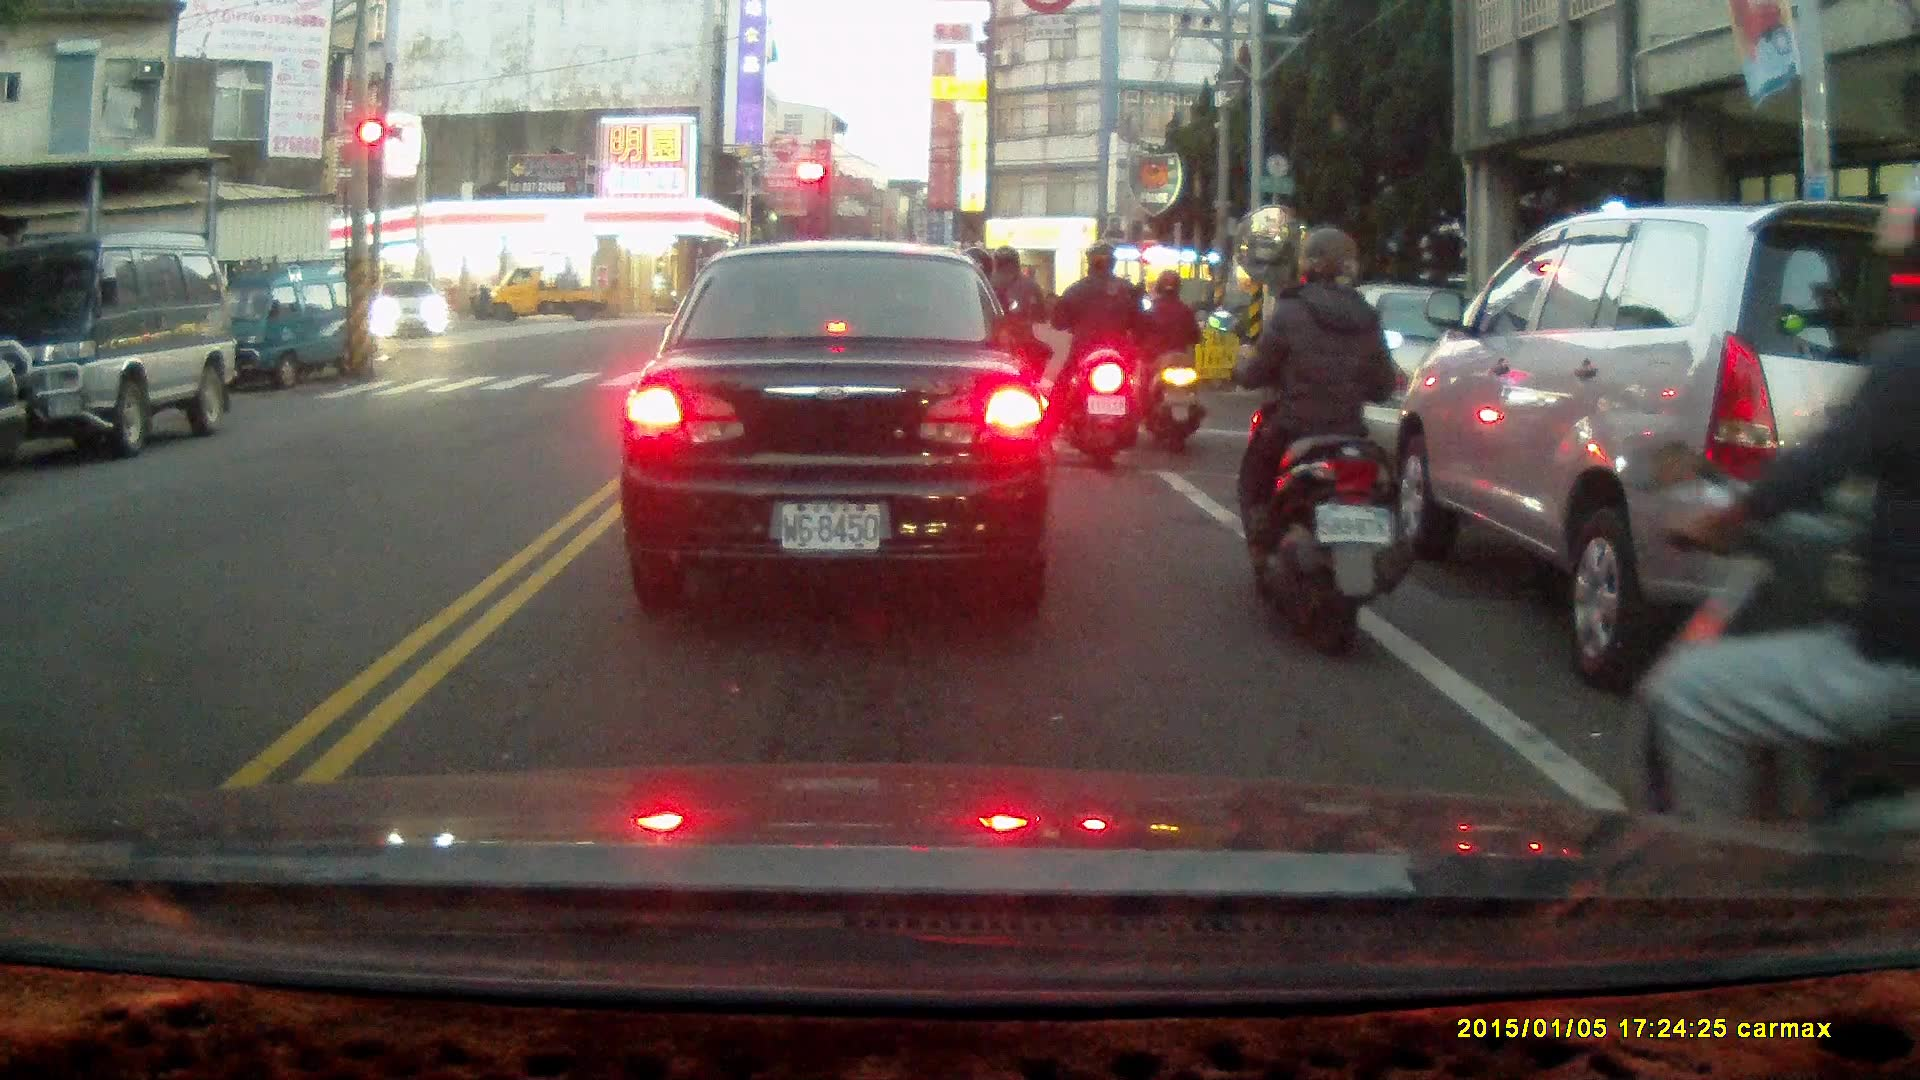rider: (1631, 224, 1920, 885), (1206, 220, 1414, 662), (1048, 243, 1141, 469), (962, 243, 1051, 445), (1134, 269, 1204, 450)
vehicle: (1380, 195, 1920, 685), (617, 243, 1061, 606), (1, 234, 239, 458), (194, 255, 381, 394), (480, 265, 616, 327), (372, 277, 451, 343)
